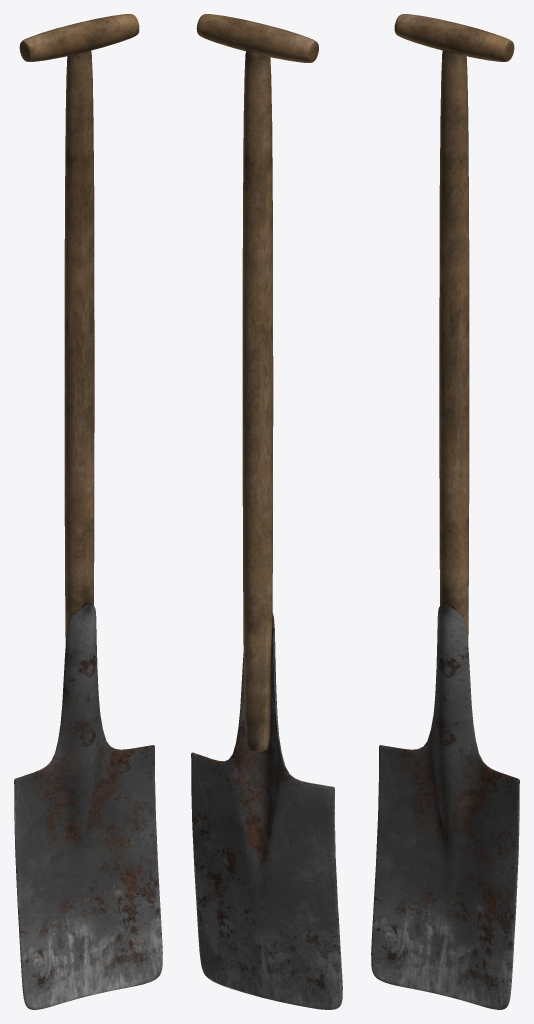
Rendered from rusted_spade_01.gltf.
3 renders of one model, left to right at view 1: azimuth 30°, elevation 25°; view 2: azimuth 150°, elevation 25°; view 3: azimuth 330°, elevation 25°, orthographic. The views are drawn at different scales.
Visible parts, largest first — view 1: rusted_spade_01__x; view 2: rusted_spade_01__x; view 3: rusted_spade_01__x.
Part boxes in pixels (x1,y1,x2,y2): rusted_spade_01__x: (14, 14, 162, 1009); rusted_spade_01__x: (191, 14, 342, 1009); rusted_spade_01__x: (371, 14, 519, 1009).
Bounding box in the file's own units: 0.1681 × 1.1 × 0.0455.
Materials: 1 (1 with a texture image).
